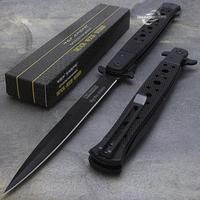knife: (2, 2, 174, 195)
